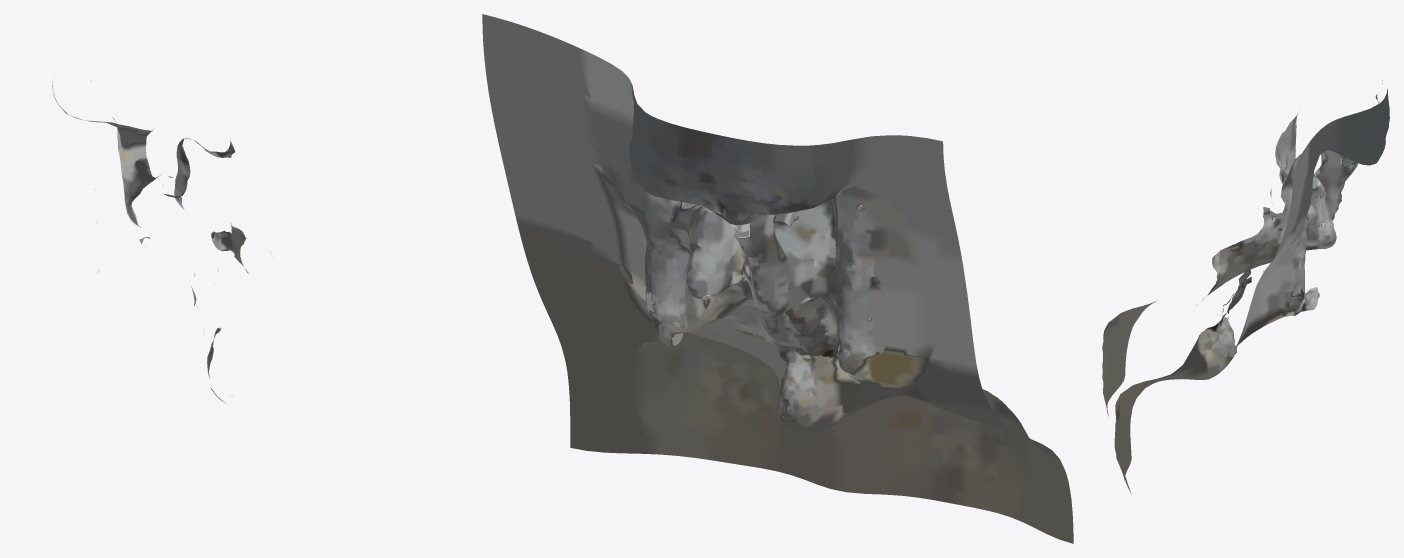
File: lincoln_init.gltf
The picture shows the model from 3 angles, left to right: view 1: azimuth 30°, elevation 25°; view 2: azimuth 150°, elevation 25°; view 3: azimuth 270°, elevation 25°; orthographic projection. The views are drawn at different scales.
Bounding box in the file's own units: 4.7 × 4.7 × 3.39.
